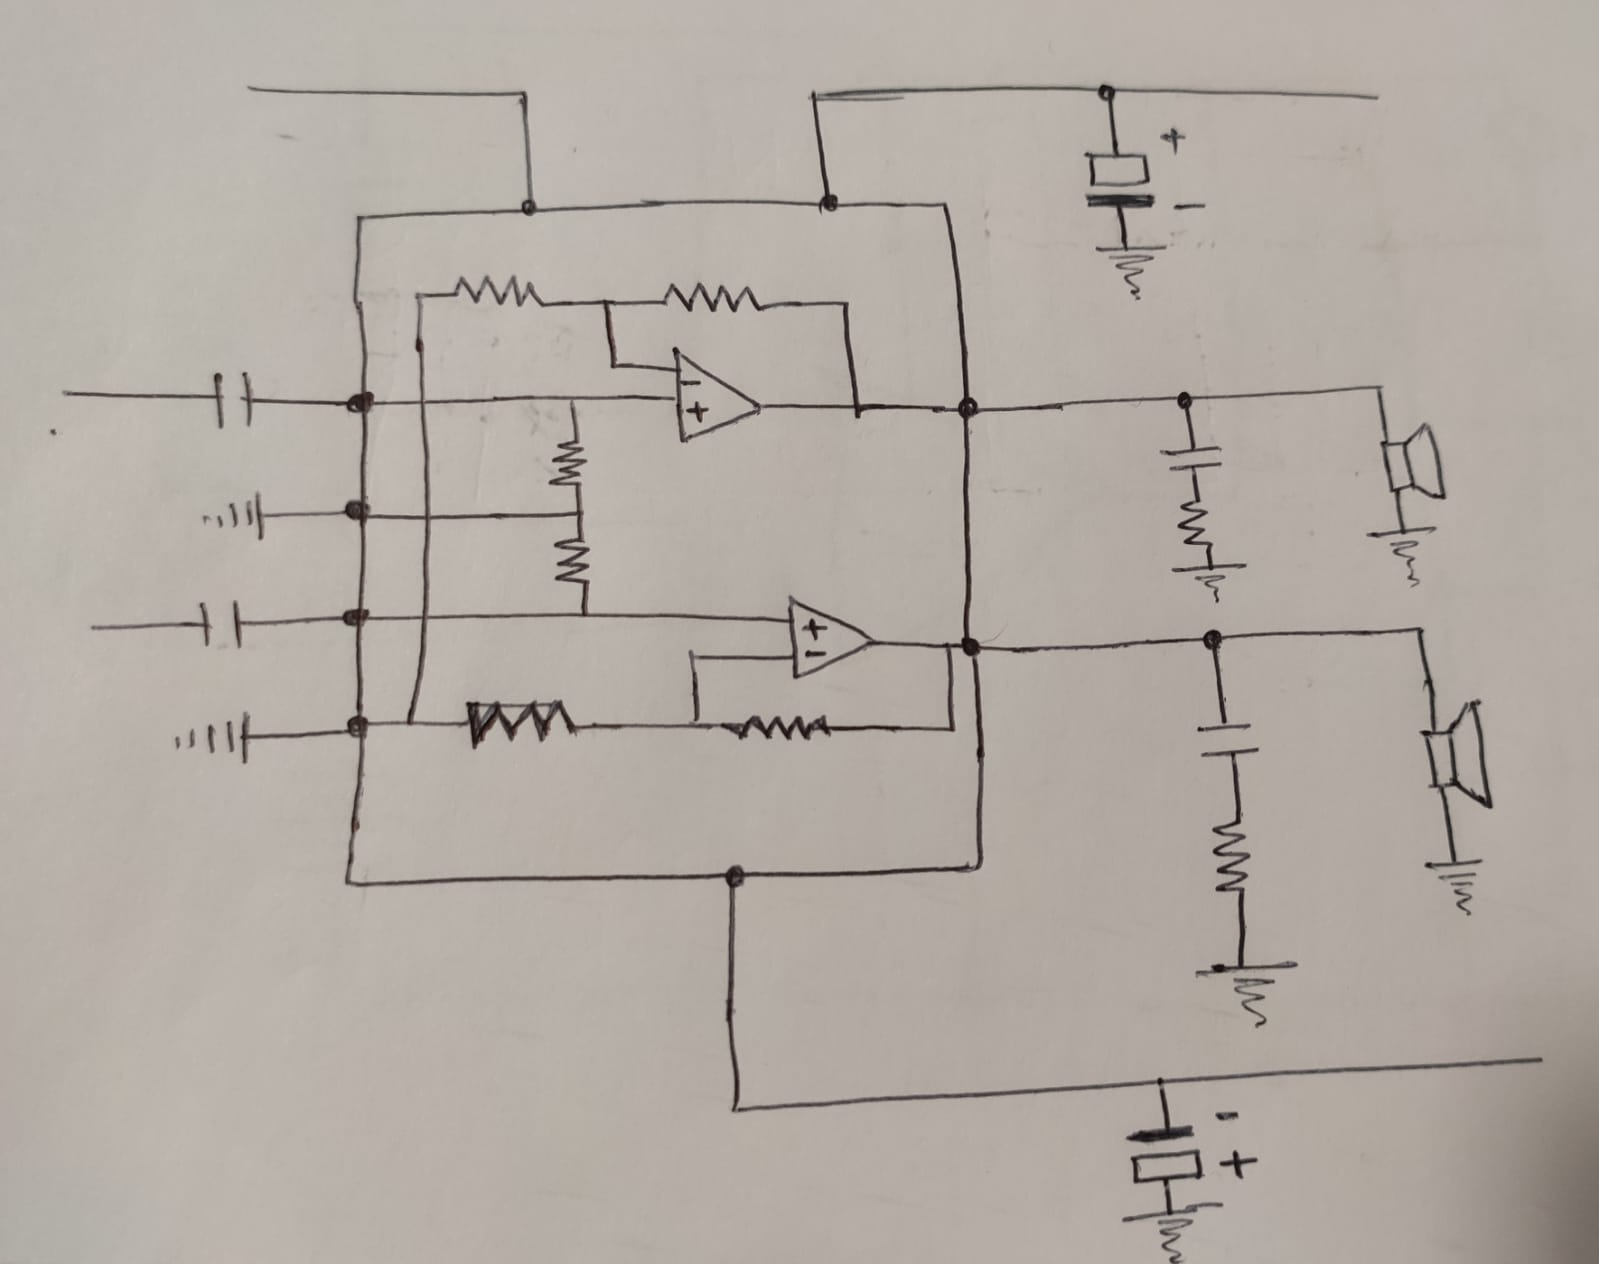capacitor.polarized: (1084, 125, 1204, 215), (1130, 1107, 1256, 1185)
capacitor.unpolarized: (205, 369, 262, 428), (1191, 716, 1262, 763), (197, 600, 249, 649), (1160, 440, 1224, 472)
gnd: (1195, 955, 1300, 1030), (1125, 1197, 1220, 1263), (174, 711, 256, 770), (1369, 520, 1438, 589), (1093, 239, 1166, 304), (1424, 851, 1486, 921), (196, 492, 273, 544), (1176, 557, 1243, 607)
junction: (937, 387, 994, 436), (1136, 1063, 1189, 1103), (1194, 624, 1241, 664), (343, 379, 382, 424), (337, 597, 380, 635), (337, 497, 376, 533), (341, 709, 380, 745), (812, 183, 849, 219), (716, 858, 753, 892), (509, 193, 546, 225), (957, 629, 989, 663), (1092, 77, 1125, 106), (1169, 385, 1202, 415), (928, 193, 957, 222), (960, 854, 992, 879), (683, 712, 710, 738), (801, 84, 829, 109), (336, 868, 362, 894), (683, 645, 709, 671), (398, 709, 423, 736), (833, 292, 857, 321), (846, 395, 870, 422), (572, 601, 597, 626), (408, 287, 432, 311), (594, 292, 619, 317), (724, 1098, 750, 1120), (934, 636, 958, 659), (510, 83, 533, 106), (413, 609, 436, 632), (417, 507, 440, 531), (604, 352, 626, 376), (350, 209, 372, 232), (940, 718, 962, 740), (1365, 378, 1387, 400), (561, 389, 583, 411), (410, 393, 435, 413), (568, 504, 591, 524), (1408, 620, 1429, 641)
operational_amplifier: (665, 346, 770, 452), (780, 587, 881, 683)
resistor: (465, 697, 576, 747), (657, 279, 768, 315), (445, 273, 549, 309), (726, 711, 835, 744), (1210, 815, 1252, 897), (1173, 491, 1214, 557), (550, 531, 597, 584), (548, 435, 589, 489)
speaker: (1422, 697, 1496, 807), (1378, 420, 1448, 497)
terminal: (1525, 1047, 1551, 1075), (55, 382, 80, 405), (1361, 88, 1387, 112), (83, 615, 106, 638), (240, 77, 263, 99)
